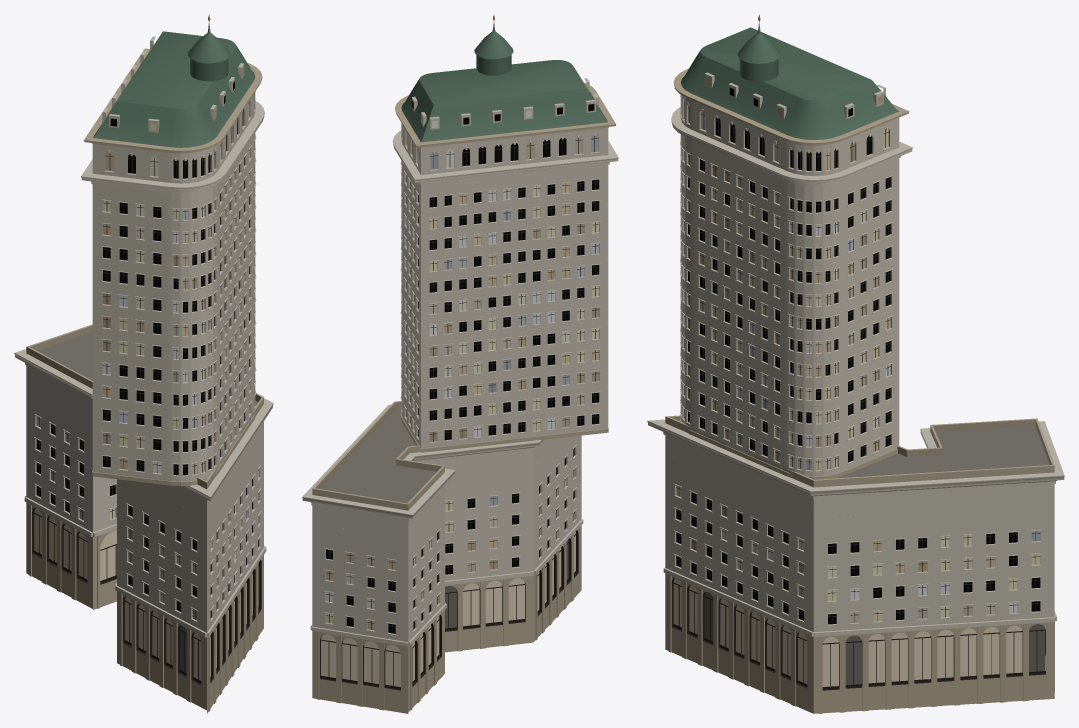
Rendered from hobart_lod0.glb.
3 views of the same model, side by side, from view 1: azimuth 30°, elevation 25°; view 2: azimuth 150°, elevation 25°; view 3: azimuth 270°, elevation 25° (orthographic). The views are drawn at different scales.
Visible parts, largest first — view 1: L0_stone, L0_win, L0_paint, L0_metal, L0_shop, L0_roof; view 2: L0_stone, L0_win, L0_paint, L0_metal, L0_shop, L0_roof; view 3: L0_stone, L0_win, L0_paint, L0_metal, L0_shop, L0_roof.
Boxes of the visible parts, box(x1,y1,x2,y2) form: L0_stone: box(14, 36, 273, 713); L0_win: box(36, 67, 258, 620); L0_paint: box(93, 31, 255, 147); L0_metal: box(32, 22, 261, 684); L0_shop: box(34, 508, 258, 680); L0_roof: box(37, 332, 258, 405); L0_stone: box(302, 78, 618, 713); L0_win: box(326, 101, 598, 633); L0_paint: box(401, 60, 607, 142); L0_metal: box(320, 21, 599, 690); L0_shop: box(321, 532, 575, 687); L0_roof: box(320, 408, 436, 503); L0_stone: box(647, 68, 1064, 713); L0_win: box(676, 77, 1040, 624); L0_paint: box(680, 27, 898, 139); L0_metal: box(671, 22, 1045, 690); L0_shop: box(673, 578, 1045, 686); L0_roof: box(813, 426, 1049, 478).
Size of the model in its own units: 34.5 by 97.13 by 55.71.
